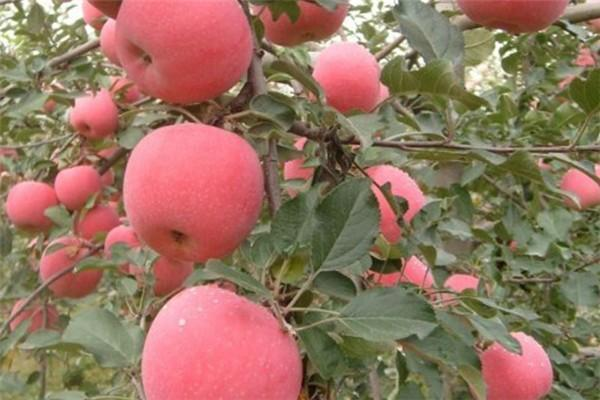apple: (119, 126, 263, 280), (138, 287, 301, 398), (113, 1, 252, 103), (311, 40, 384, 114), (477, 332, 553, 398), (41, 238, 101, 298), (67, 86, 117, 138), (8, 180, 54, 233), (56, 164, 101, 207), (560, 163, 598, 209)
